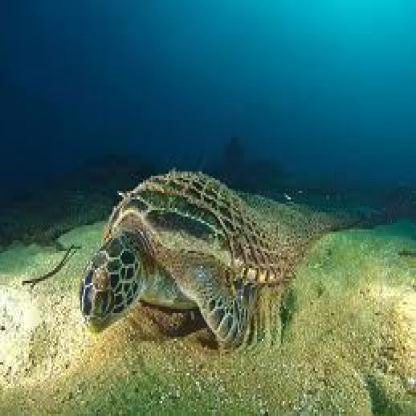net: (120, 170, 368, 288)
